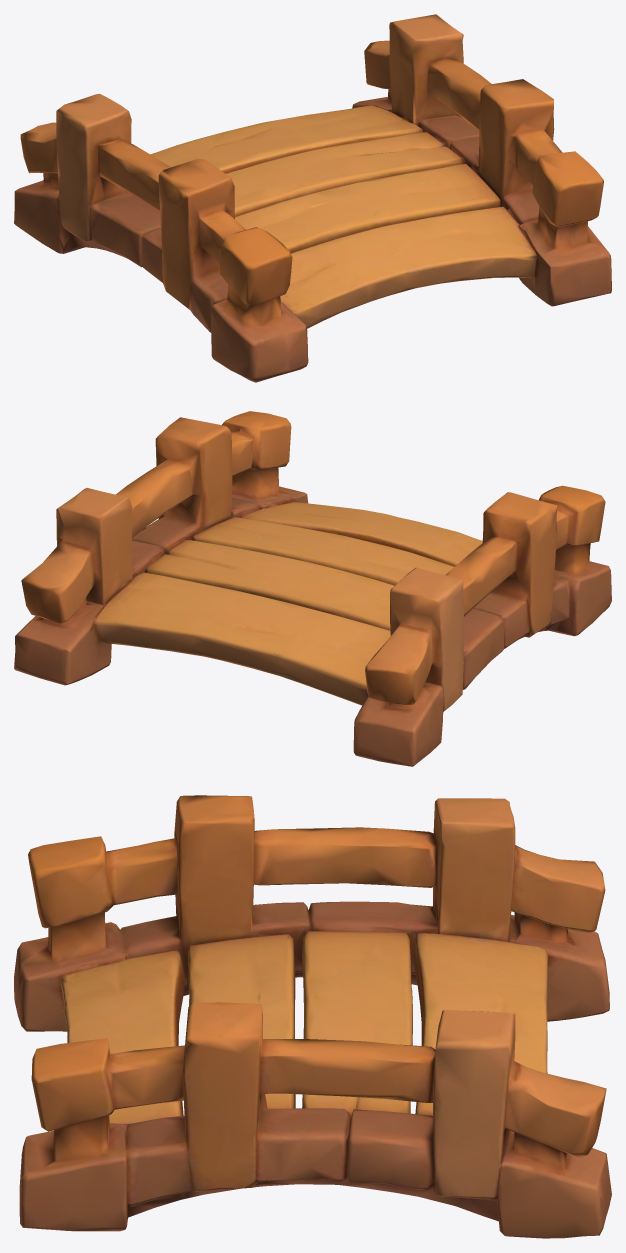
File: bridge.glb
The picture shows the model from 3 angles, top to bottom: view 1: azimuth 30°, elevation 25°; view 2: azimuth 150°, elevation 25°; view 3: azimuth 270°, elevation 25°; orthographic projection. The views are drawn at different scales.
Visible parts, largest first — view 1: tripo_node_6dce3ab8-06b9-4e05-bad7-26fcb04aaa6a; view 2: tripo_node_6dce3ab8-06b9-4e05-bad7-26fcb04aaa6a; view 3: tripo_node_6dce3ab8-06b9-4e05-bad7-26fcb04aaa6a.
Boxes of the visible parts, x1,y1,x2,y2 form: tripo_node_6dce3ab8-06b9-4e05-bad7-26fcb04aaa6a: (14, 14, 611, 382); tripo_node_6dce3ab8-06b9-4e05-bad7-26fcb04aaa6a: (14, 411, 611, 766); tripo_node_6dce3ab8-06b9-4e05-bad7-26fcb04aaa6a: (14, 795, 611, 1238).
Size of the model in its own units: 1 by 0.3702 by 0.9728.
1 material, 1 textured.
